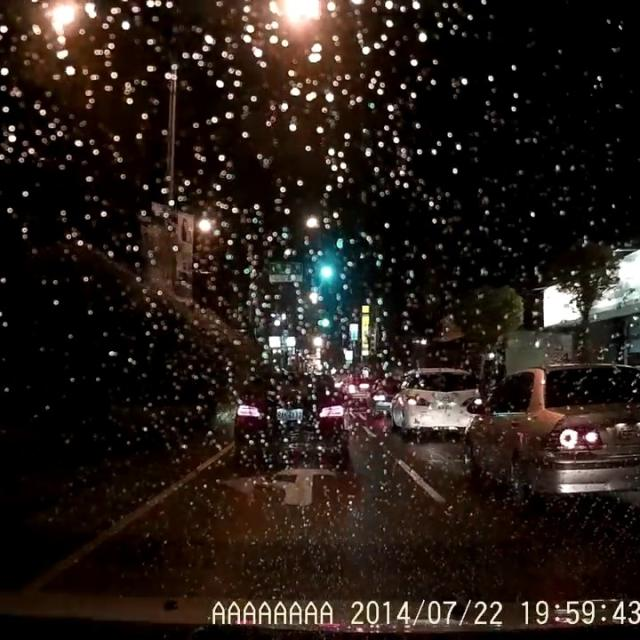Car: (460, 359, 639, 508), (231, 369, 348, 466), (388, 366, 480, 440), (363, 376, 403, 416)
